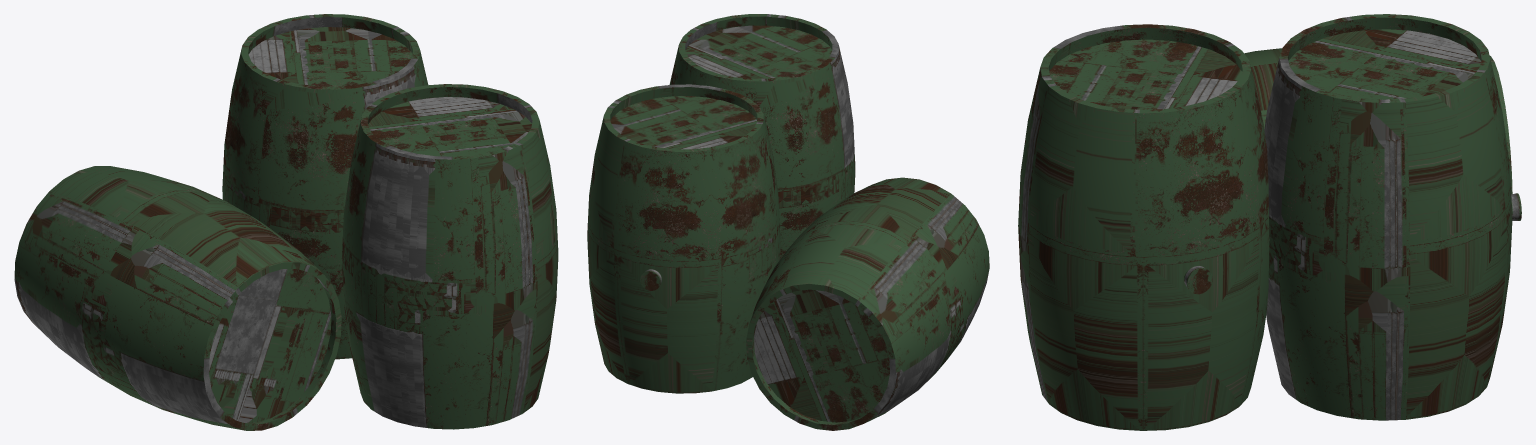
3 renders of one model, left to right at view 1: azimuth 30°, elevation 25°; view 2: azimuth 150°, elevation 25°; view 3: azimuth 270°, elevation 25°, orthographic. The views are drawn at different scales.
Parts seen in each view (by area): view 1: barrel_low (×3); view 2: barrel_low (×3); view 3: barrel_low (×3), cork_low.
Boxes of the visible parts, left/top/right/bottom form: barrel_low (×3): left=14, top=14, right=558, bottom=430; barrel_low (×3): left=587, top=14, right=989, bottom=430; barrel_low (×3): left=1018, top=14, right=1512, bottom=430; cork_low: left=1184, top=265, right=1212, bottom=294.
Bounding box in the file's own units: 64.59 × 44.25 × 60.95.
